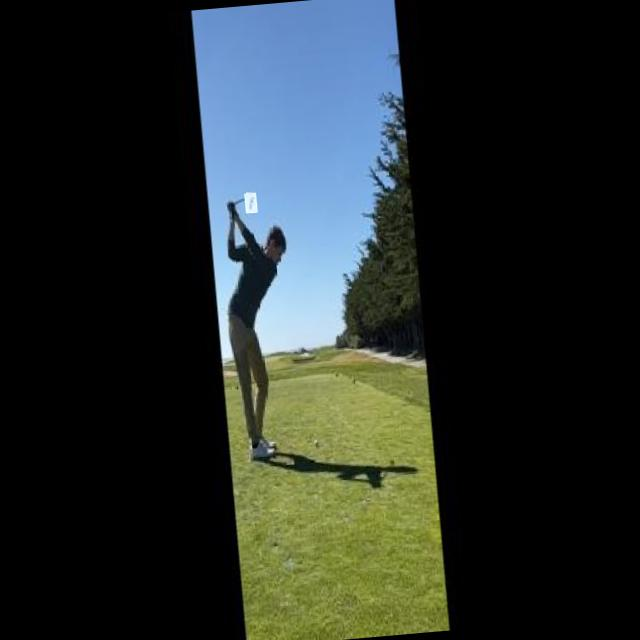club head: (244, 192, 258, 213)
